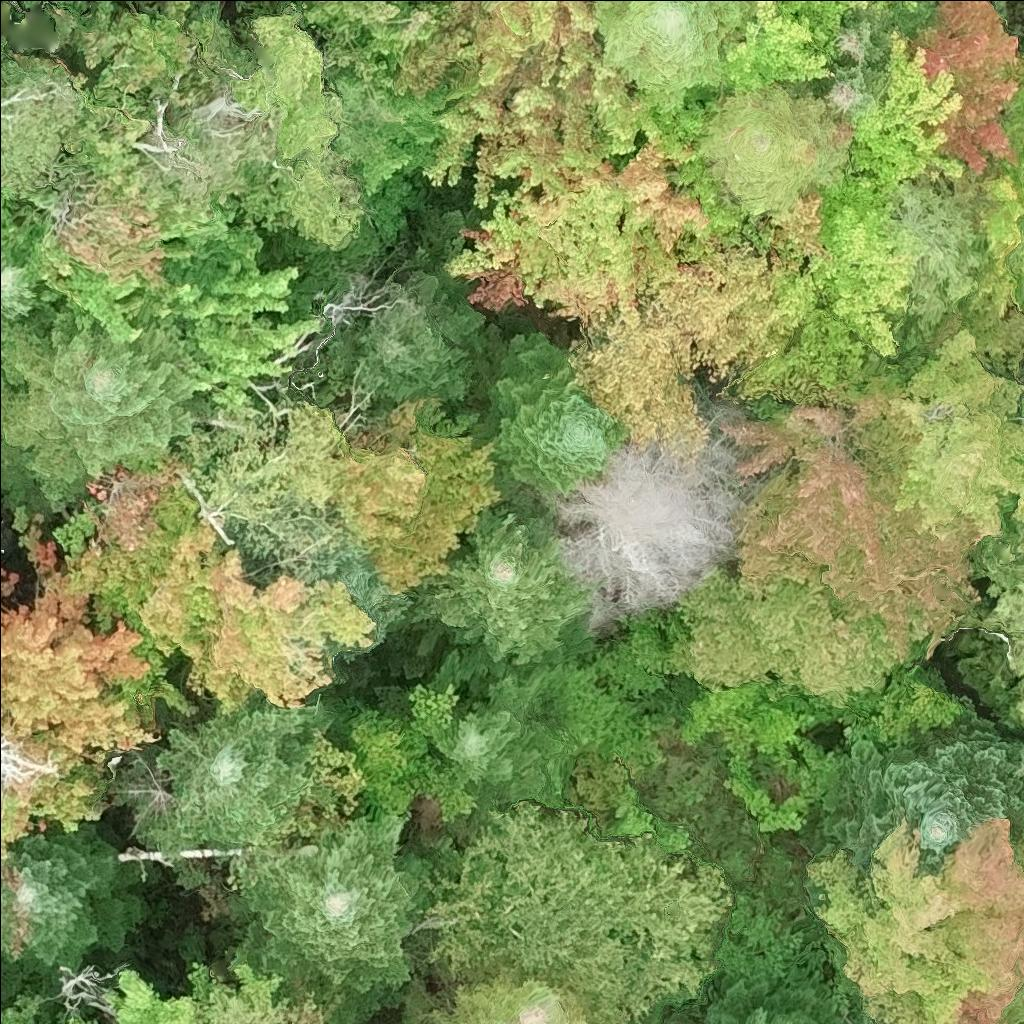crown: (719, 326, 1023, 665), (52, 458, 376, 732), (415, 801, 733, 1023), (12, 193, 324, 409), (0, 504, 157, 861), (397, 0, 661, 209), (443, 141, 711, 323), (806, 813, 1023, 1023), (0, 302, 212, 512), (224, 809, 432, 1023), (738, 173, 931, 396), (569, 241, 769, 454), (555, 423, 763, 626), (795, 701, 1023, 871), (302, 0, 452, 257), (323, 203, 491, 406), (135, 695, 335, 863), (670, 563, 898, 710), (332, 401, 504, 593), (412, 494, 597, 669), (479, 324, 625, 502), (427, 635, 576, 807), (0, 825, 145, 1000), (693, 77, 861, 218), (905, 0, 1023, 177), (848, 26, 966, 196), (595, 0, 754, 120), (721, 0, 920, 92), (940, 511, 1023, 731), (236, 0, 341, 161), (737, 192, 831, 364), (895, 177, 986, 340), (0, 32, 83, 188), (424, 965, 632, 1023), (201, 951, 344, 1023), (322, 230, 411, 341), (694, 963, 843, 1023), (99, 959, 214, 1023), (0, 239, 49, 350), (43, 958, 123, 1023), (0, 997, 77, 1023), (66, 1014, 103, 1023)
